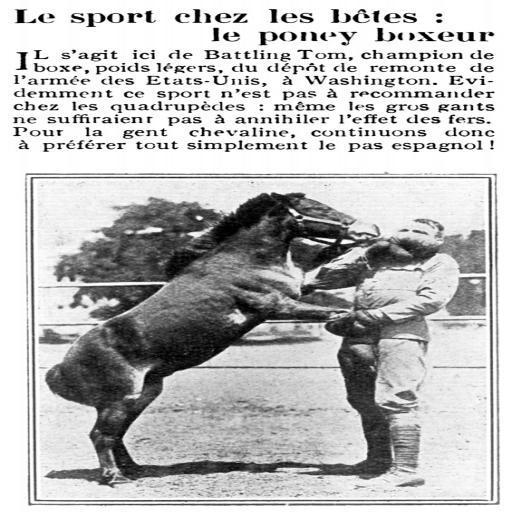horse: (43, 190, 384, 485)
